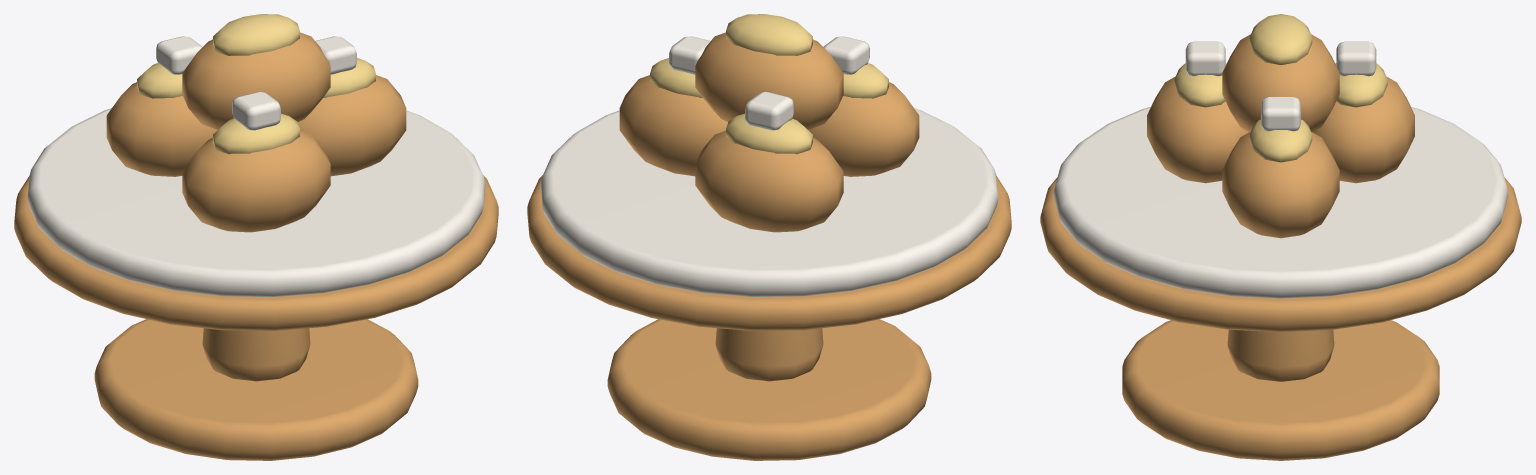
File: baked_potatoes_plate.glb
3 views of the same model, side by side, from view 1: azimuth 30°, elevation 25°; view 2: azimuth 150°, elevation 25°; view 3: azimuth 270°, elevation 25° (orthographic).
Parts seen in each view (by area): view 1: baked_potatoes_plate_mesh; view 2: baked_potatoes_plate_mesh; view 3: baked_potatoes_plate_mesh.
Part boxes in pixels (x1=…): baked_potatoes_plate_mesh: x1=14, y1=14, x2=498, y2=460; baked_potatoes_plate_mesh: x1=527, y1=14, x2=1011, y2=460; baked_potatoes_plate_mesh: x1=1040, y1=14, x2=1521, y2=460.
Bounding box in the file's own units: 0.36 × 0.31 × 0.36.
